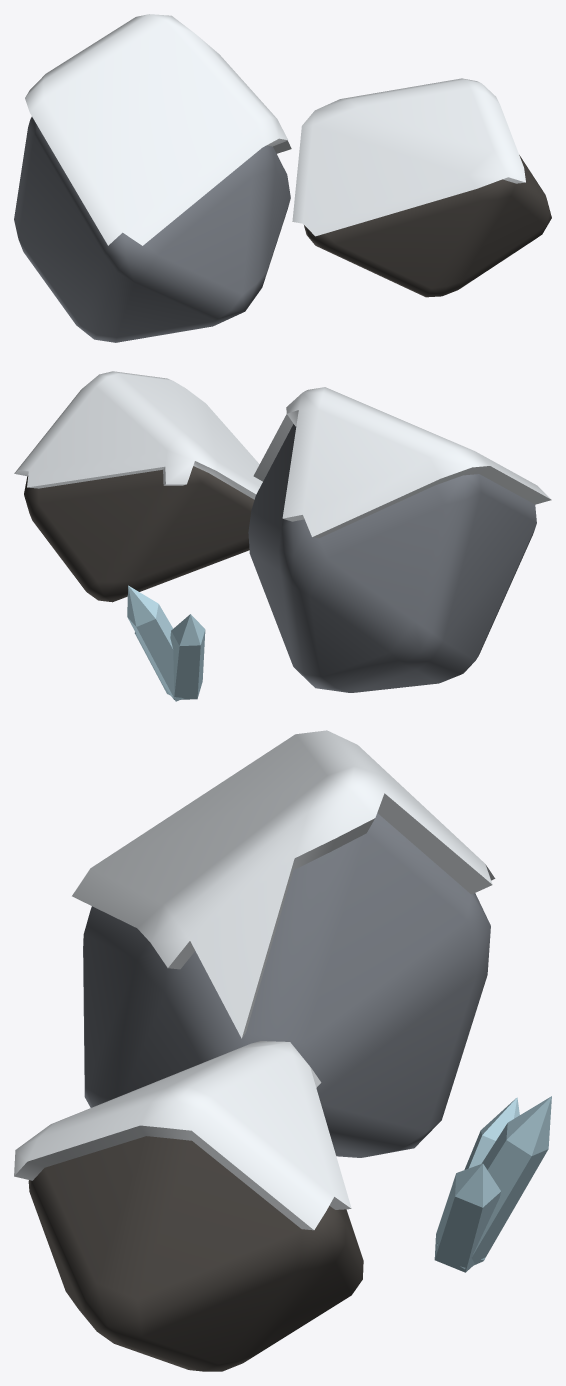
The model's file is rocher_toundra_2.glb.
3 views of the same model, one above another, from view 1: azimuth 30°, elevation 25°; view 2: azimuth 150°, elevation 25°; view 3: azimuth 270°, elevation 25° (orthographic). The views are drawn at different scales.
Visible parts, largest first — view 1: neige_neige.006, roche_granite.006, roche_pierre_sombre.010; view 2: roche_granite.006, neige_neige.006, roche_pierre_sombre.010, glace_glace.002; view 3: neige_neige.006, roche_granite.006, roche_pierre_sombre.010, glace_glace.002.
Boxes of the visible parts, bbox=[...] form: neige_neige.006: bbox=[25, 14, 525, 245]; roche_granite.006: bbox=[14, 117, 290, 342]; roche_pierre_sombre.010: bbox=[304, 155, 551, 297]; roche_granite.006: bbox=[248, 424, 536, 692]; neige_neige.006: bbox=[14, 371, 551, 538]; roche_pierre_sombre.010: bbox=[24, 466, 254, 602]; glace_glace.002: bbox=[127, 585, 205, 701]; neige_neige.006: bbox=[14, 730, 495, 1230]; roche_granite.006: bbox=[83, 813, 490, 1157]; roche_pierre_sombre.010: bbox=[28, 1136, 363, 1371]; glace_glace.002: bbox=[434, 1096, 551, 1272].
Size of the model in its own units: 0.8326 by 0.495 by 0.5669.
